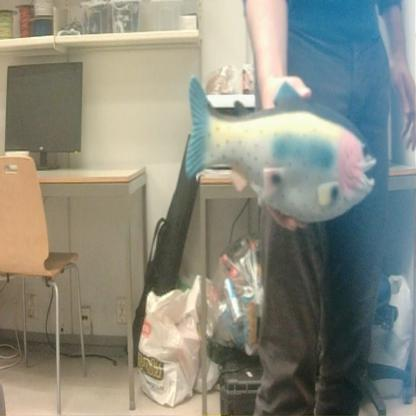rubberfish: (184, 73, 380, 228)
